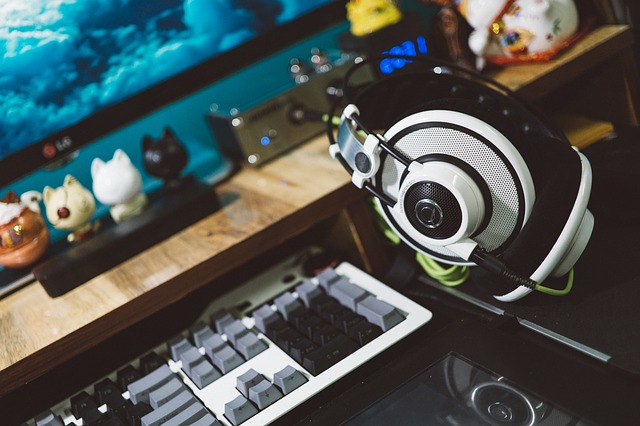headphones: (326, 55, 595, 301)
